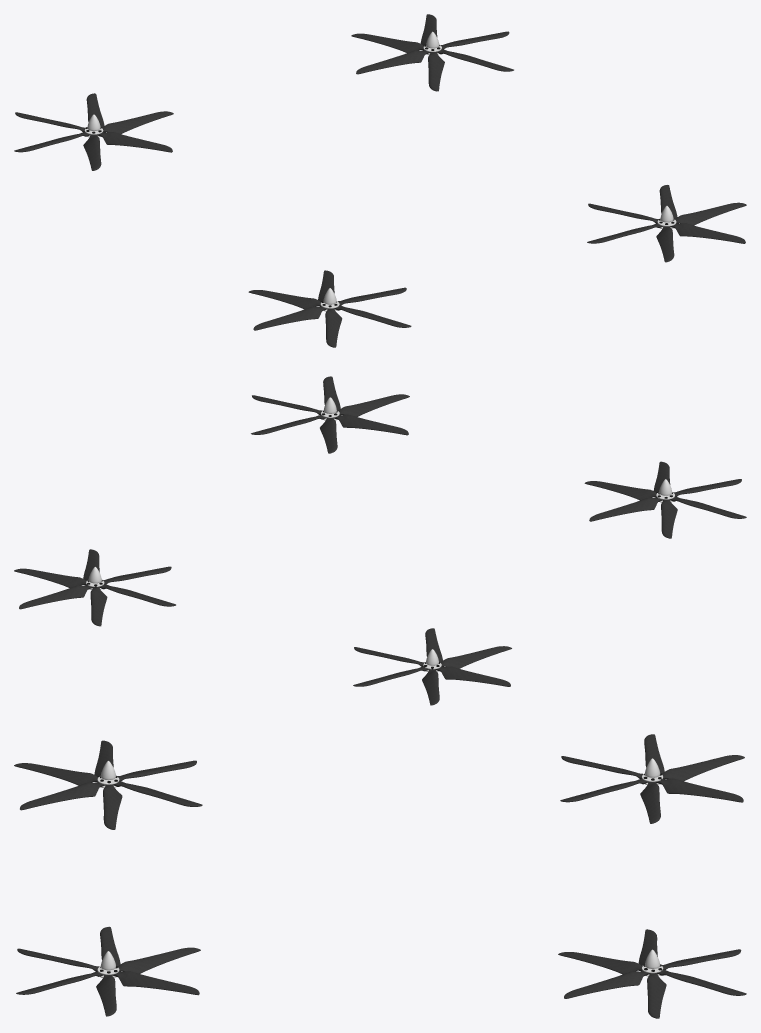
File: rotorsonly.glb
The picture shows the model from 3 angles, top to bottom: view 1: azimuth 30°, elevation 25°; view 2: azimuth 150°, elevation 25°; view 3: azimuth 270°, elevation 25°; orthographic projection. The views are drawn at different scales.
Visible parts, largest first — view 1: Rotor_CW_02, Rotor_CW_01, Rotor_CCW_01, Rotor_CCW_02; view 2: Rotor_CW_02, Rotor_CW_01, Rotor_CCW_02, Rotor_CCW_01; view 3: Rotor_CW_01, Rotor_CW_02, Rotor_CCW_01, Rotor_CCW_02.
Part boxes in pixels (x1,y1,x2,y2): Rotor_CW_02: [351, 14, 513, 91]; Rotor_CW_01: [248, 270, 411, 347]; Rotor_CCW_01: [587, 185, 746, 262]; Rotor_CCW_02: [14, 93, 173, 170]; Rotor_CW_02: [14, 549, 175, 626]; Rotor_CW_01: [584, 461, 746, 538]; Rotor_CCW_02: [353, 628, 511, 705]; Rotor_CCW_01: [251, 376, 409, 453]; Rotor_CW_01: [14, 740, 202, 829]; Rotor_CW_02: [558, 929, 746, 1018]; Rotor_CCW_01: [16, 926, 200, 1016]; Rotor_CCW_02: [560, 734, 744, 823].
Size of the model in its own units: 0.2729 by 0.0131 by 0.3015.
3 materials, 1 textured.
